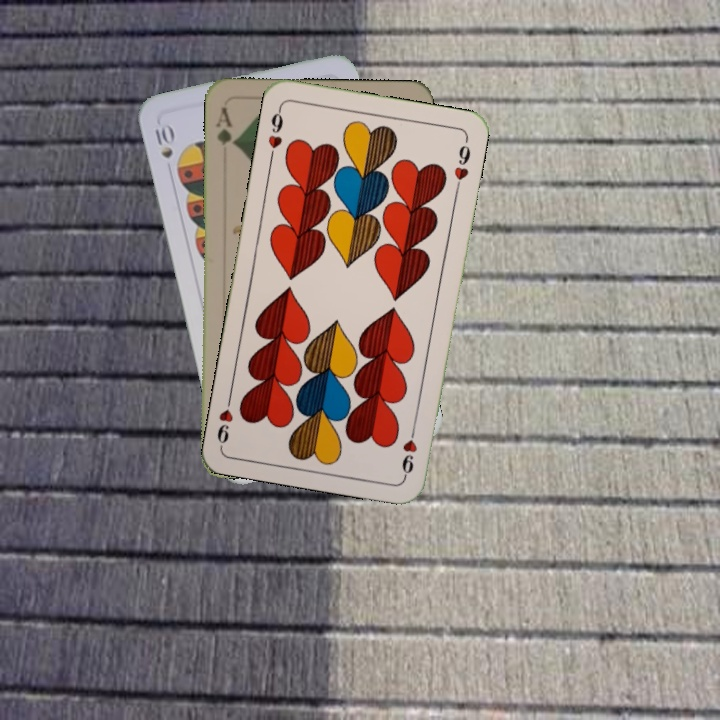GA: (211, 104, 238, 148)
H9: (264, 103, 286, 162), (398, 420, 420, 479)
S10: (151, 120, 176, 161)
